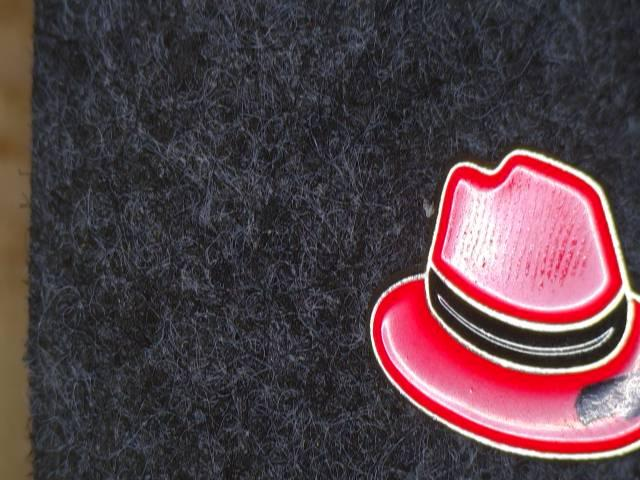Red-Hat: (331, 112, 640, 468)
Scratch: (561, 367, 640, 440)
